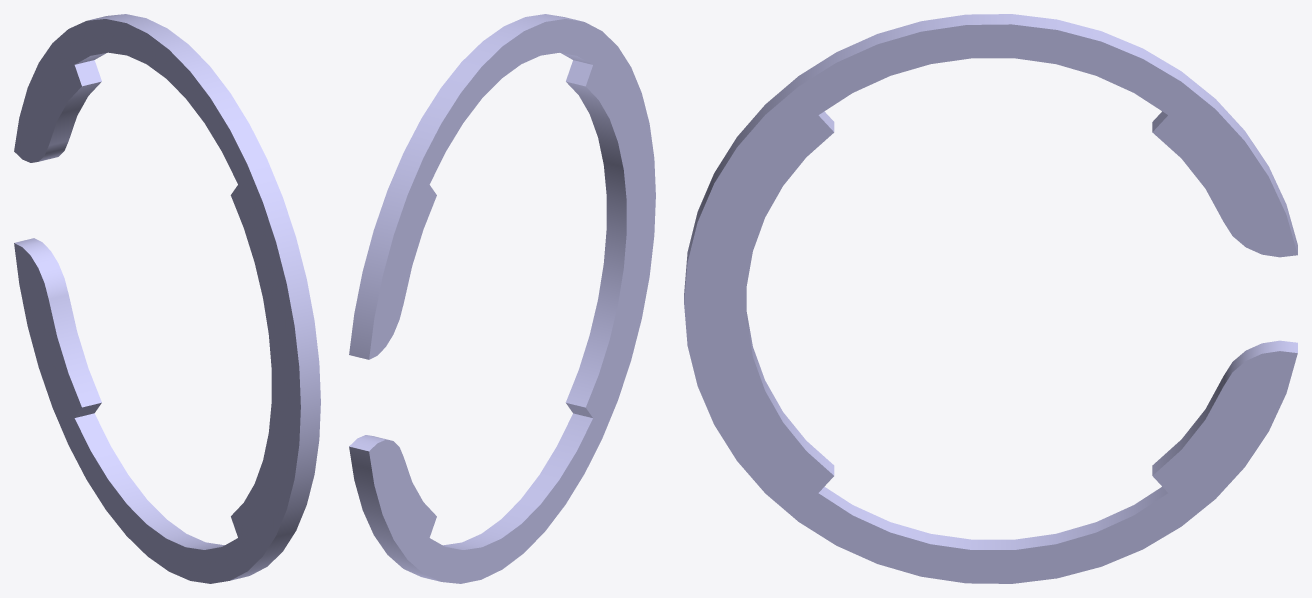
File: 17 Anillo de retencion.fbx
The picture shows the model from 3 angles, left to right: view 1: azimuth 30°, elevation 25°; view 2: azimuth 150°, elevation 25°; view 3: azimuth 270°, elevation 25°; orthographic projection. The views are drawn at different scales.
Parts seen in each view (by area): view 1: PartBody; view 2: PartBody; view 3: PartBody.
Boxes of the visible parts, box(x1,y1,x2,y2) form: PartBody: box(14, 14, 320, 583); PartBody: box(349, 14, 655, 583); PartBody: box(684, 14, 1297, 583).
Size of the model in its own units: 0.1575 by 3.93 by 3.91.
